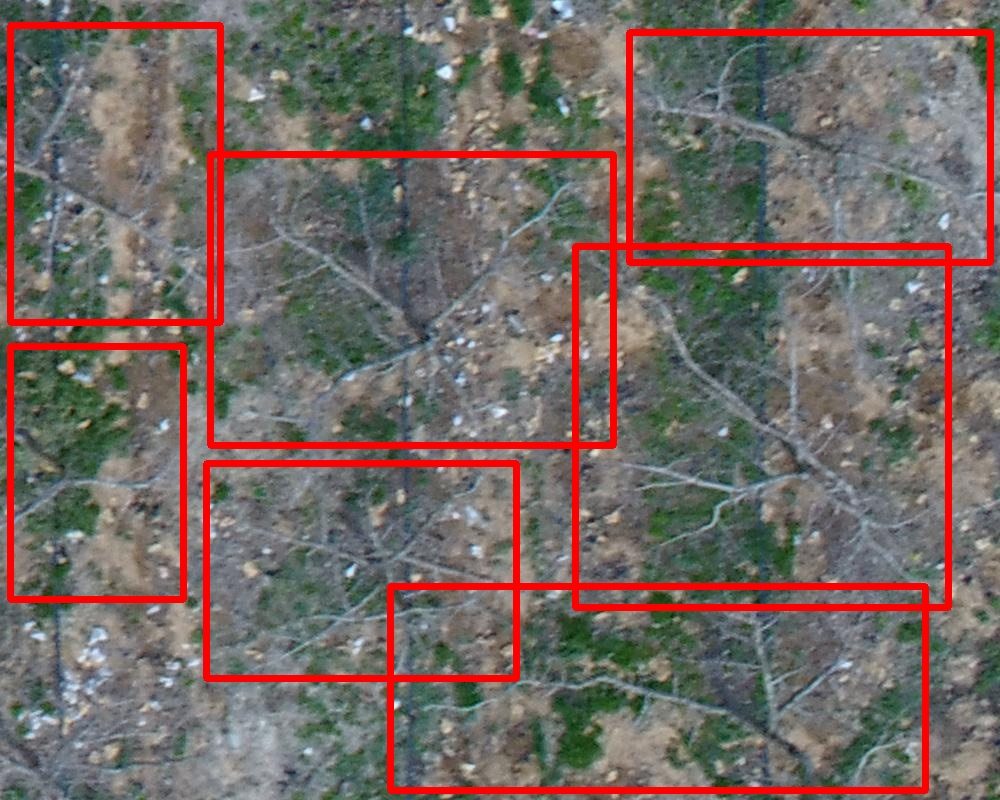apple: (575, 246, 948, 607), (210, 154, 613, 445), (390, 586, 925, 790), (629, 32, 990, 262), (206, 463, 516, 678), (10, 25, 220, 322), (10, 346, 183, 599)
